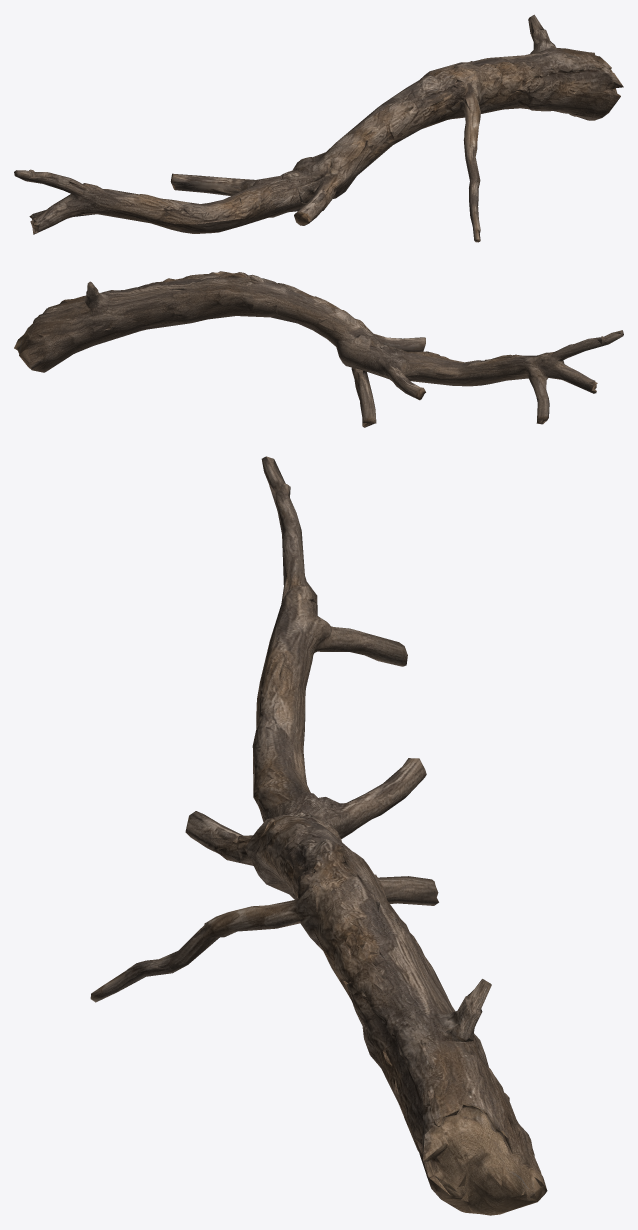
File: Branch_001.fbx
The picture shows the model from 3 angles, top to bottom: view 1: azimuth 30°, elevation 25°; view 2: azimuth 150°, elevation 25°; view 3: azimuth 270°, elevation 25°; orthographic projection. The views are drawn at different scales.
Parts seen in each view (by area): view 1: output_unwrapped; view 2: output_unwrapped; view 3: output_unwrapped.
Boxes of the visible parts, x1,y1,x2,y2 form: output_unwrapped: (14,14,623,242); output_unwrapped: (14,271,623,427); output_unwrapped: (90,456,547,1215).
Bounding box in the file's own units: 190 × 41.51 × 68.76.
Materials: 1 (1 with a texture image).
